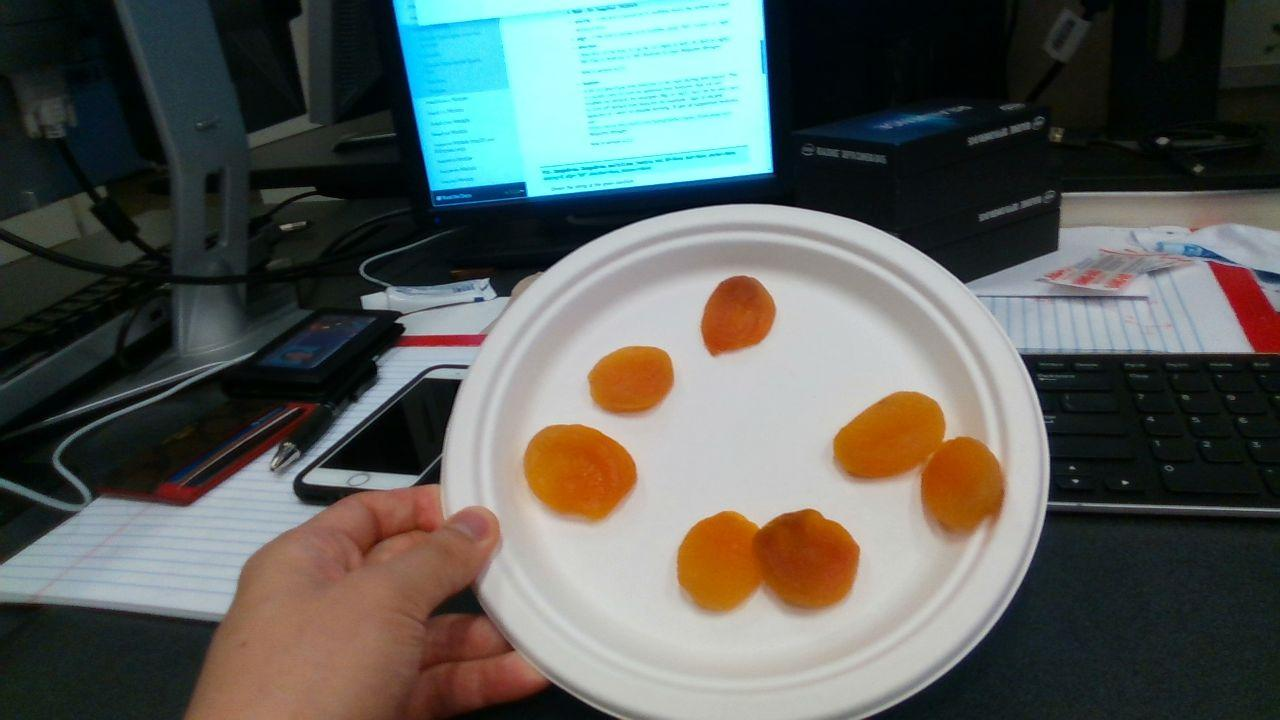apricot: (524, 424, 638, 519), (753, 509, 860, 606), (835, 391, 945, 477), (678, 512, 765, 609), (922, 437, 1001, 527), (701, 276, 776, 356), (590, 347, 673, 412)
plate: (440, 204, 1050, 720)
